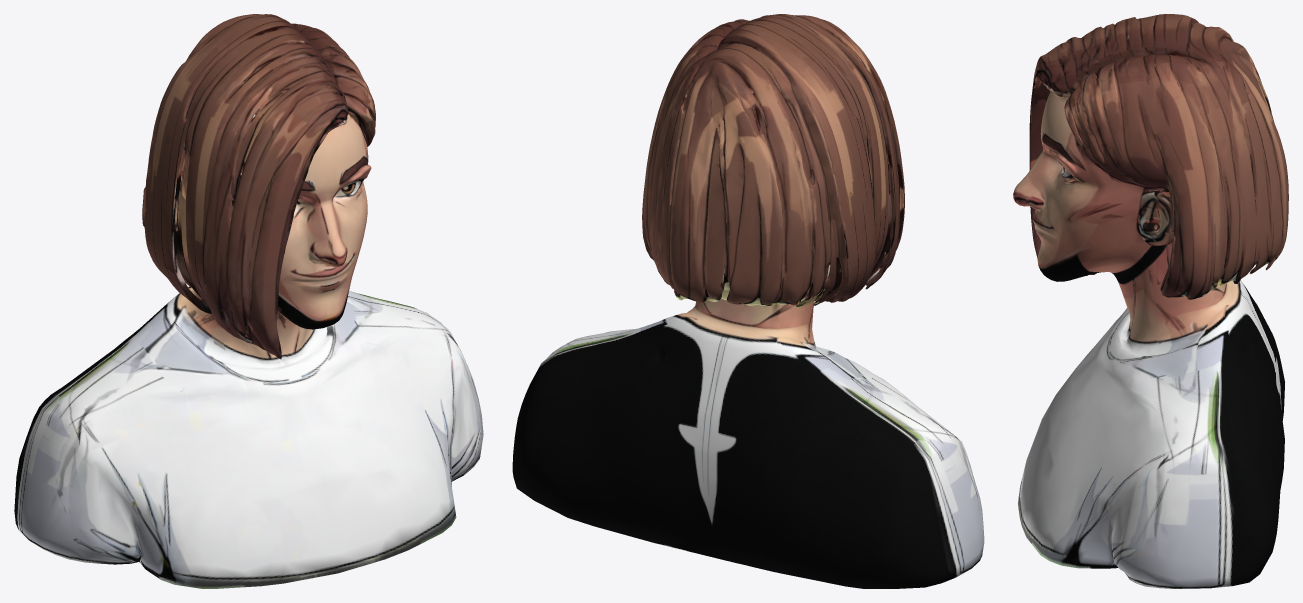
The model's file is lmmfdolj.glb.
The picture shows the model from 3 angles, left to right: view 1: azimuth 30°, elevation 25°; view 2: azimuth 150°, elevation 25°; view 3: azimuth 270°, elevation 25°; orthographic projection. The views are drawn at different scales.
Visible parts, largest first — view 1: Character; view 2: Character; view 3: Character.
Part boxes in pixels (left/top/right/bottom): Character: left=14, top=14, right=483, bottom=588; Character: left=512, top=14, right=984, bottom=588; Character: left=1013, top=14, right=1288, bottom=588.
Size of the model in its own units: 0.4216 by 0.45 by 0.2318.
1 material, 1 textured.
